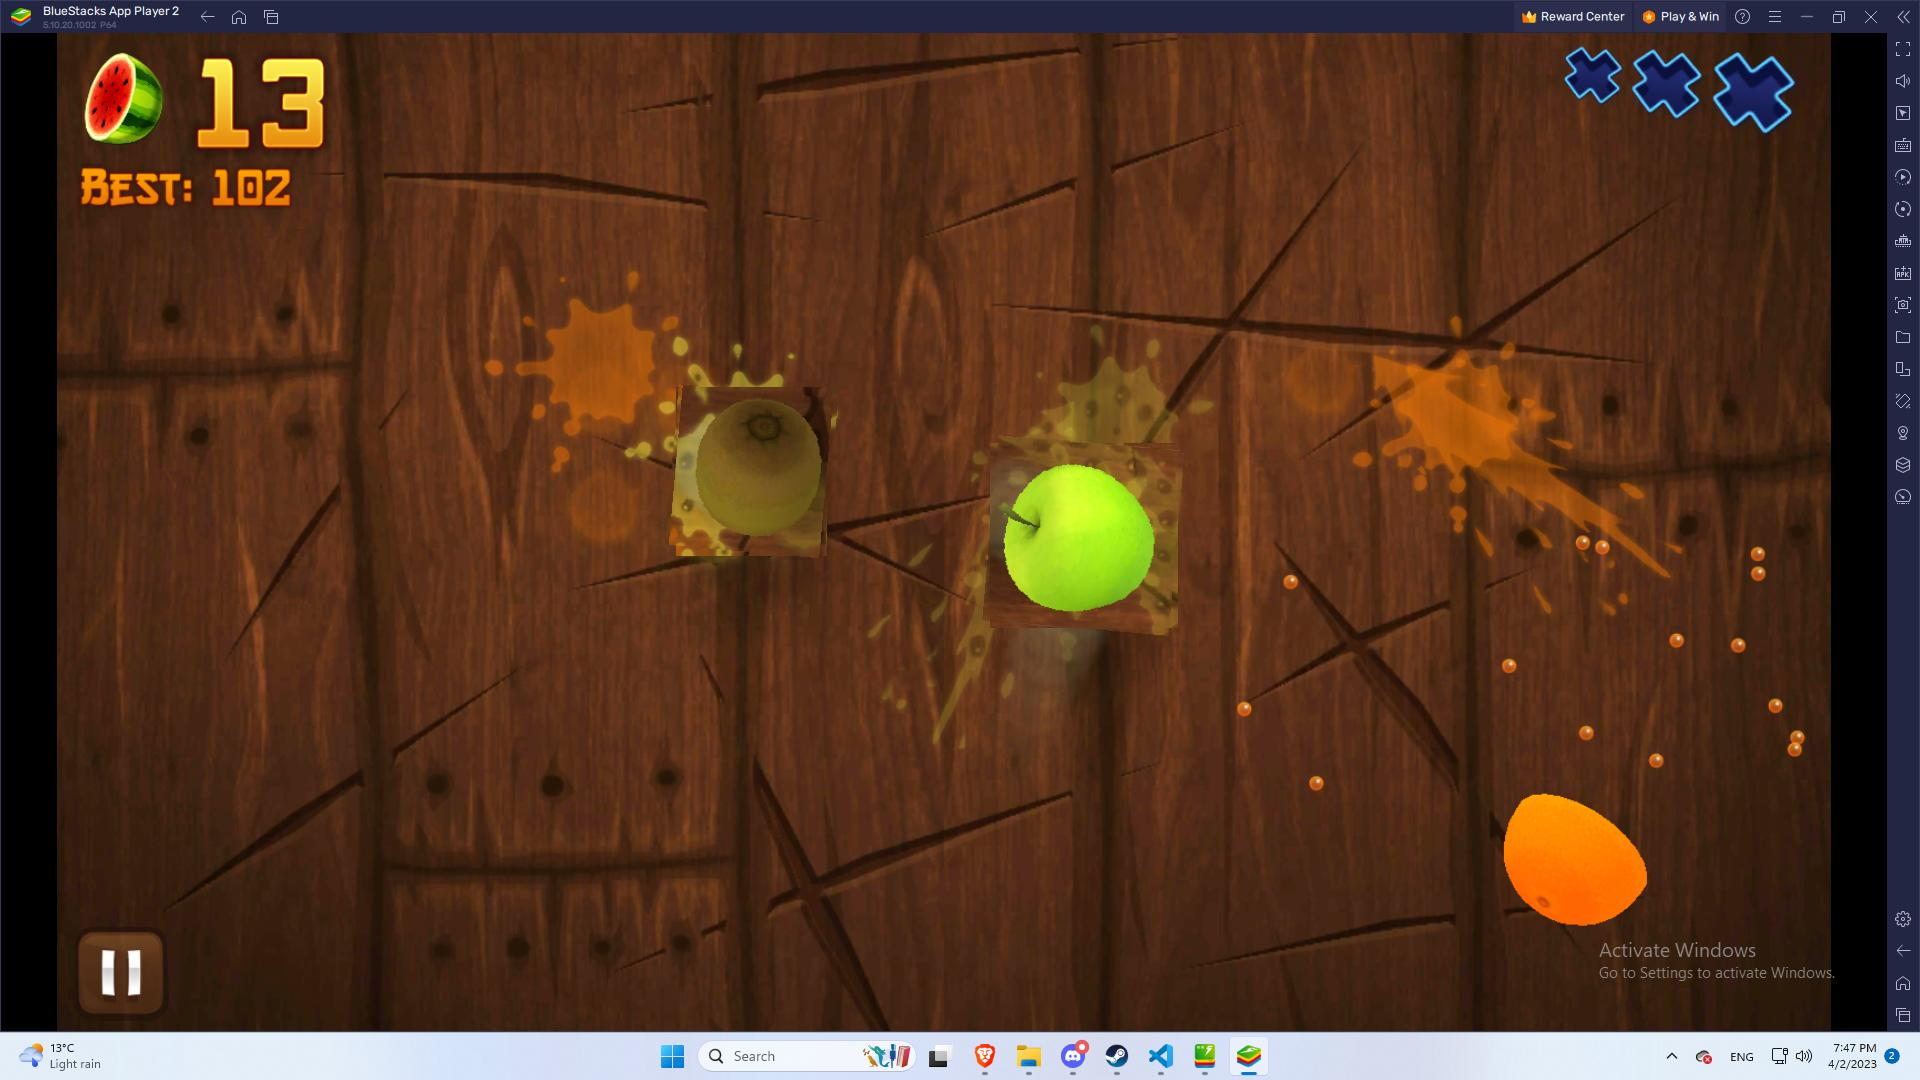fruit: (986, 439, 1180, 633), (669, 388, 836, 555)
